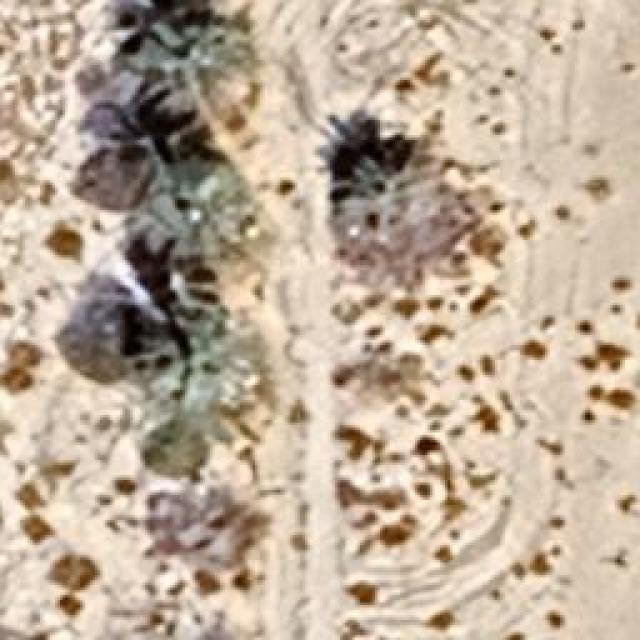PalmTree: (114, 2, 254, 106), (128, 301, 258, 411), (144, 150, 254, 258), (342, 140, 430, 238)
